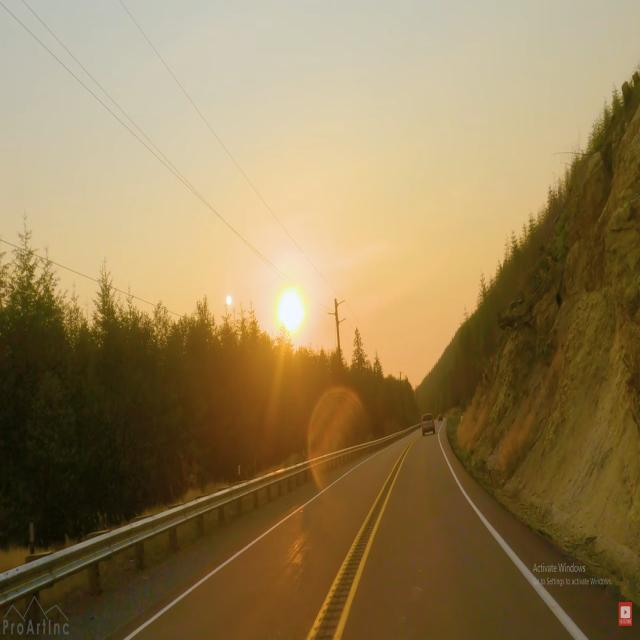sun: (269, 274, 314, 348)
